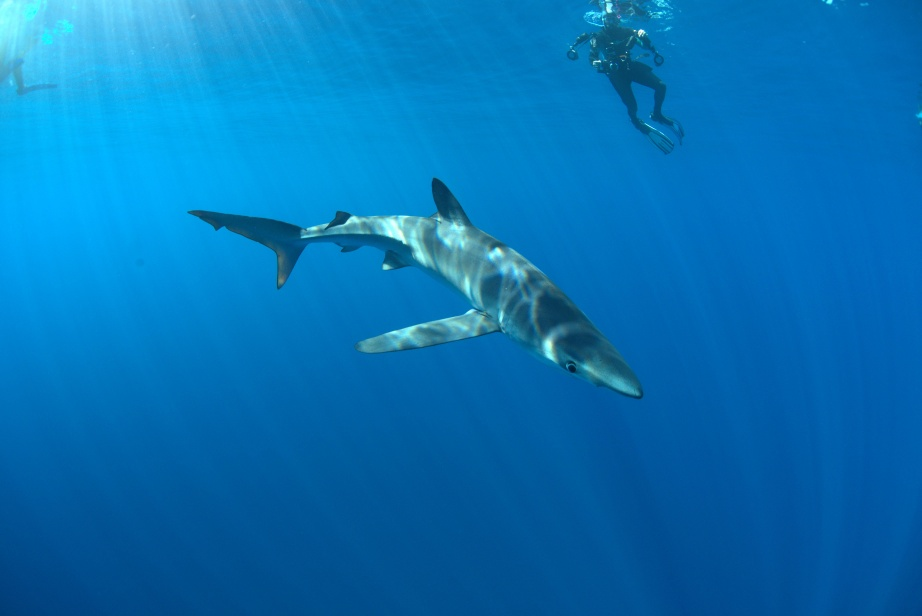Azul: (183, 149, 678, 414)
